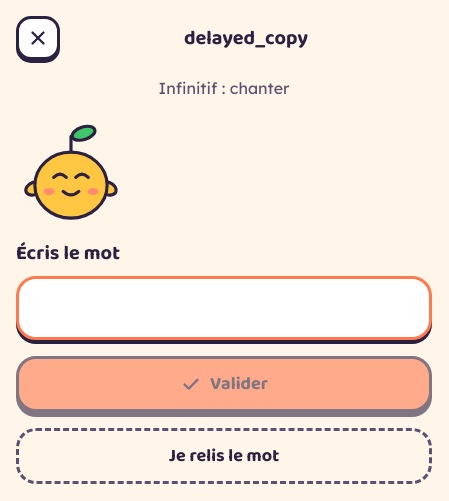
Scenario: GameScreen, flash dictation › without a reread, the answer is sent star-eligible
This screenshot has width=449, height=501.
Type "chanter" into the field labelled "Écris le mot" at point(224, 308), box [16,276,432,340]
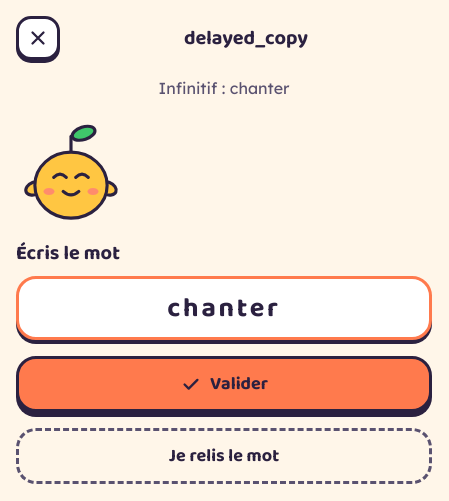
Click the button "Valider" at point(224, 384), box [16,356,432,412]
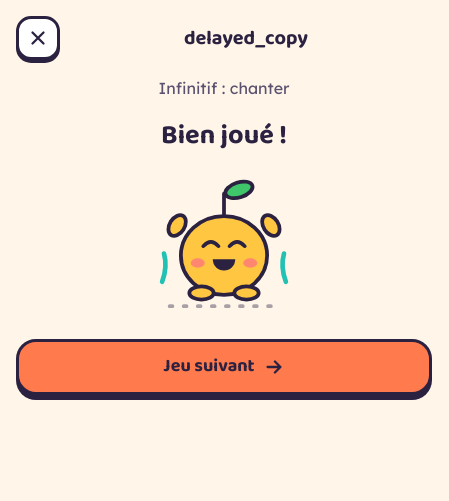
Expected: the number of icons with test id "mascot" is 1, [149,172,299,322]
Now the text "Bien joué !" is shown, box [161,116,287,156]
